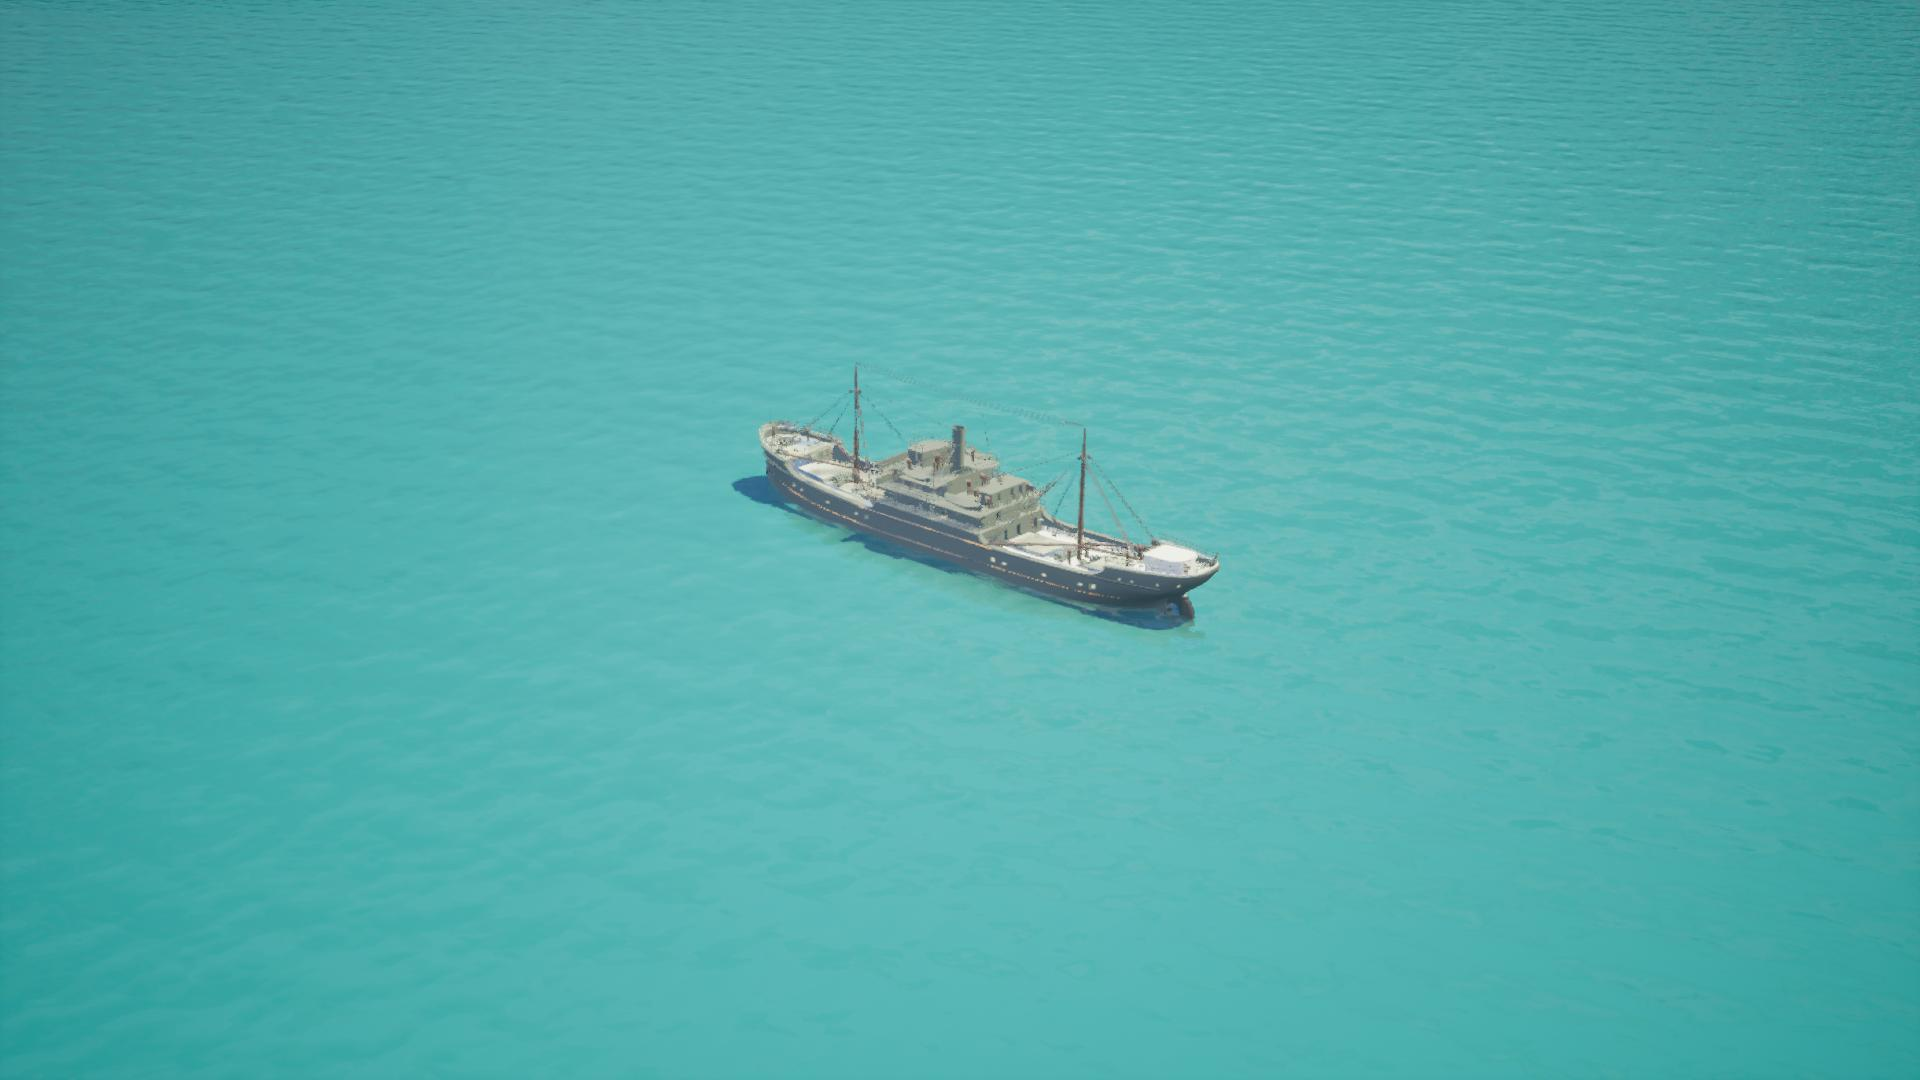Fishing Boat: (740, 367, 1216, 629)
